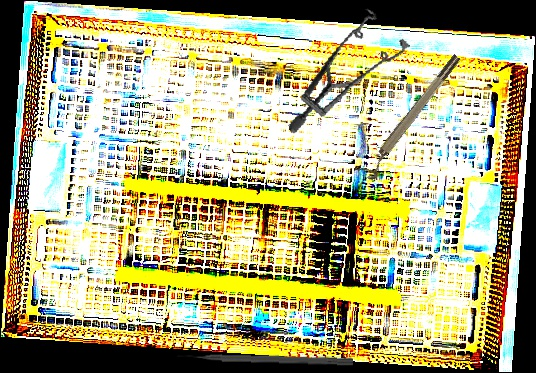Fixation Ring: (356, 52, 469, 183)
Pusher: (176, 349, 354, 367)
Speculum: (266, 1, 424, 135)
